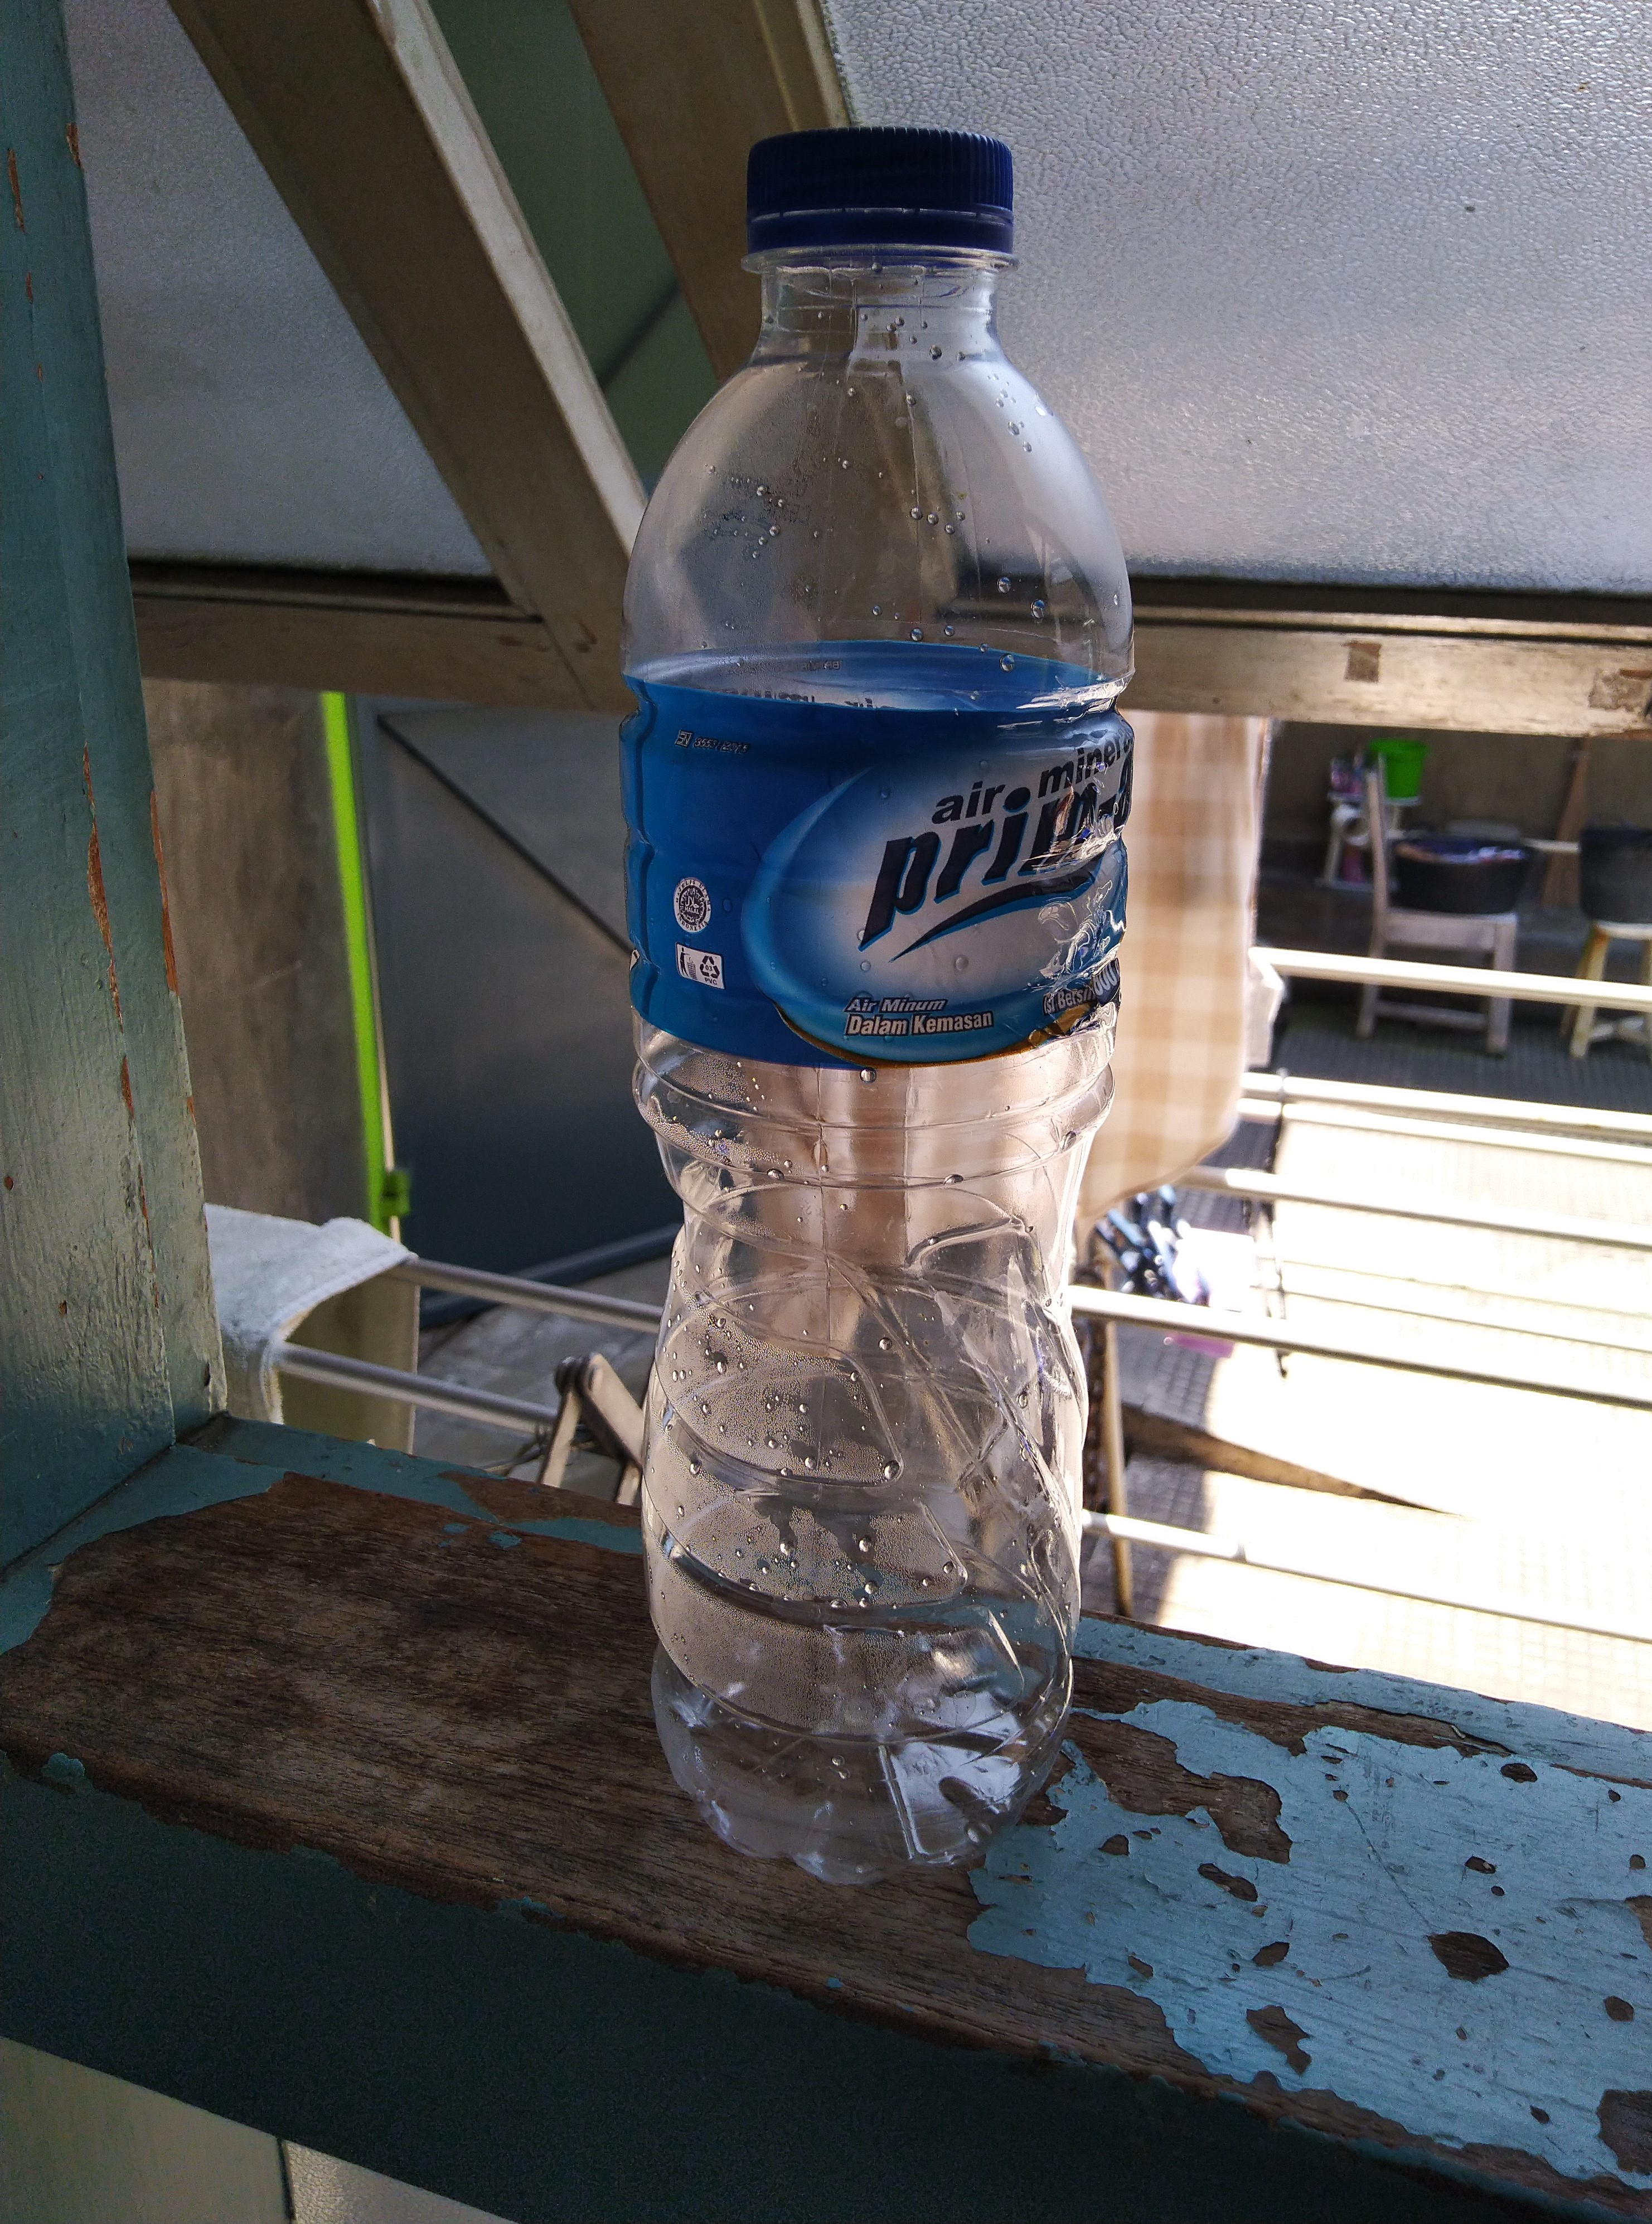HDPE: (743, 128, 1020, 255)
PET: (651, 267, 1124, 1872)
